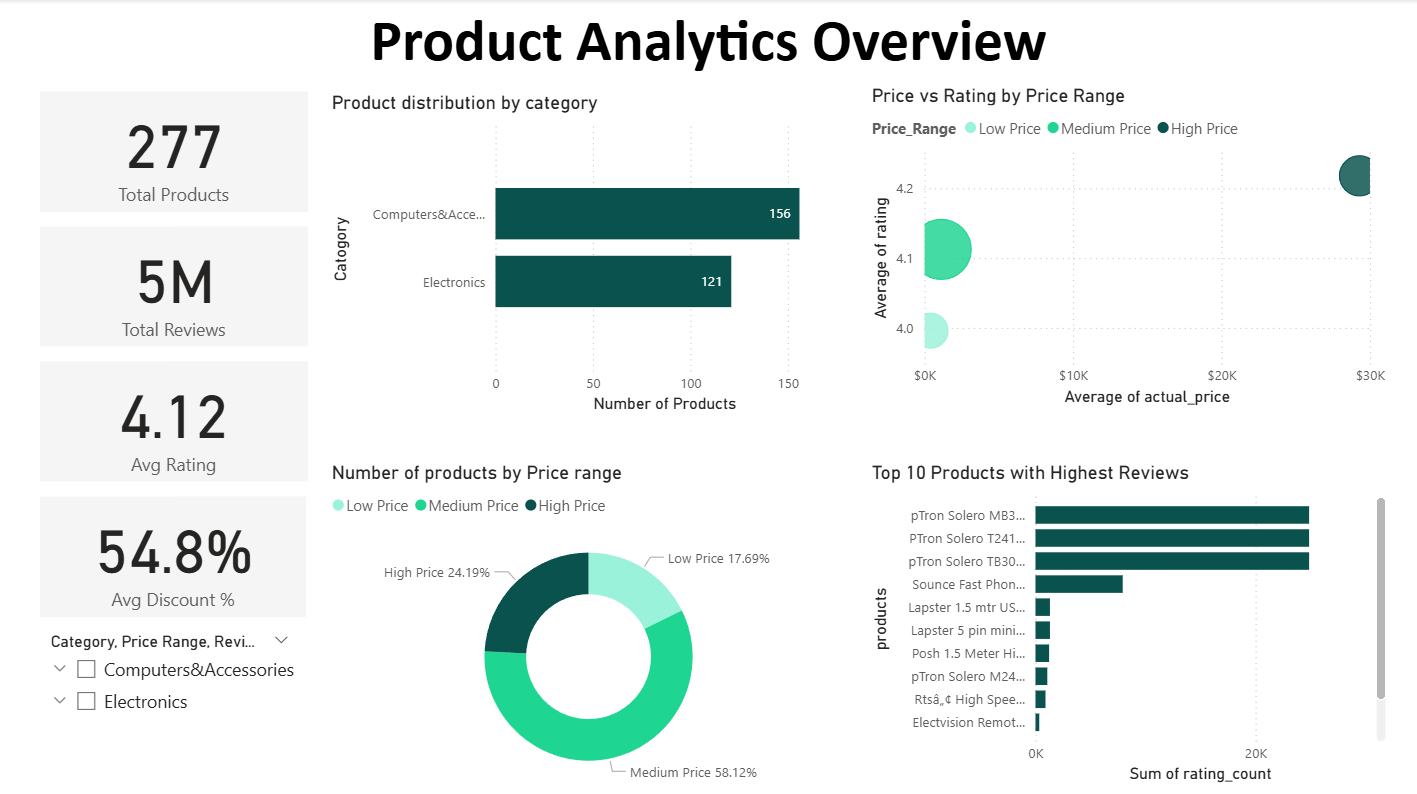

The dashboard page shown, as its layout file describes it:
{"tool":"powerbi","page":{"name":"Dashboard 1","canvas":[1280,720],"ordinal":0},"visuals":[{"type":"card","fields":{"Values":["CountNonNull(amazon_products_clean_sql.product_name)"]},"box":[35.7,83.7,241.5,108.4],"z":0},{"type":"card","fields":{"Values":["Sum(amazon_products_clean_sql.rating_count)"]},"box":[35.9,205.5,241.3,108.2],"z":1000},{"type":"card","fields":{"Values":["Avg(amazon_products_clean_sql.rating)"]},"box":[35.9,327.1,241.3,108.2],"z":2000},{"type":"card","fields":{"Values":["Avg(amazon_products_clean_sql.discount_Percentage)"]},"box":[36.2,448.7,240.1,108.4],"z":3000},{"type":"clusteredBarChart","title":"Product distribution by category","fields":{"Category":["amazon_products_clean_sql.main_category"],"Y":["CountNonNull(amazon_products_clean_sql.product_name)"]},"box":[293.7,83.7,473.4,295],"z":4000},{"type":"donutChart","title":"Number of products by Price range","fields":{"Y":["CountNonNull(amazon_products_clean_sql.product_name)"],"Category":["amazon_products_clean_sql.Price_Range"]},"box":[293.7,417.2,473.4,303.3],"z":5000},{"type":"scatterChart","title":"Price vs Rating by Price Range","fields":{"Y":["Avg(amazon_products_clean_sql.rating)"],"X":["Avg(amazon_products_clean_sql.actual_price)"],"Series":["amazon_products_clean_sql.Price_Range"],"Size":["CountNonNull(amazon_products_clean_sql.product_name)"]},"box":[780.8,76.8,473.4,295],"z":6000},{"type":"barChart","title":"Top 10 Products with Highest Reviews","fields":{"Y":["Sum(amazon_products_clean_sql.rating_count)"],"Category":["amazon_products_clean_sql.product_name"]},"box":[780.8,417.2,473.4,295],"z":7000},{"type":"slicer","fields":{"Values":["amazon_products_clean_sql.main_category","amazon_products_clean_sql.Price_Range","amazon_products_clean_sql.Review_Level","amazon_products_clean_sql.rating","amazon_products_clean_sql.discount_Percentage"]},"box":[32.9,565.4,240.1,133.1],"z":8000},{"type":"textbox","box":[267.6,0,743.7,76.8],"z":9000}]}

Visuals, with their boxes in screenshot pixels (x1, y1, x2, y2), scaled from the page's 1280x720 canvas onto the 1417x794 screenshot:
card - CountNonNull(amazon_products_clean_sql.product_name): [left=40, top=92, right=307, bottom=212]
card - Sum(amazon_products_clean_sql.rating_count): [left=40, top=227, right=307, bottom=346]
card - Avg(amazon_products_clean_sql.rating): [left=40, top=361, right=307, bottom=480]
card - Avg(amazon_products_clean_sql.discount_Percentage): [left=40, top=495, right=306, bottom=614]
"Product distribution by category" clusteredBarChart: [left=325, top=92, right=849, bottom=418]
"Number of products by Price range" donutChart: [left=325, top=460, right=849, bottom=793]
"Price vs Rating by Price Range" scatterChart: [left=864, top=85, right=1388, bottom=410]
"Top 10 Products with Highest Reviews" barChart: [left=864, top=460, right=1388, bottom=785]
slicer - amazon_products_clean_sql.main_category x amazon_products_clean_sql.Price_Range: [left=36, top=624, right=302, bottom=770]
textbox: [left=296, top=0, right=1120, bottom=85]
